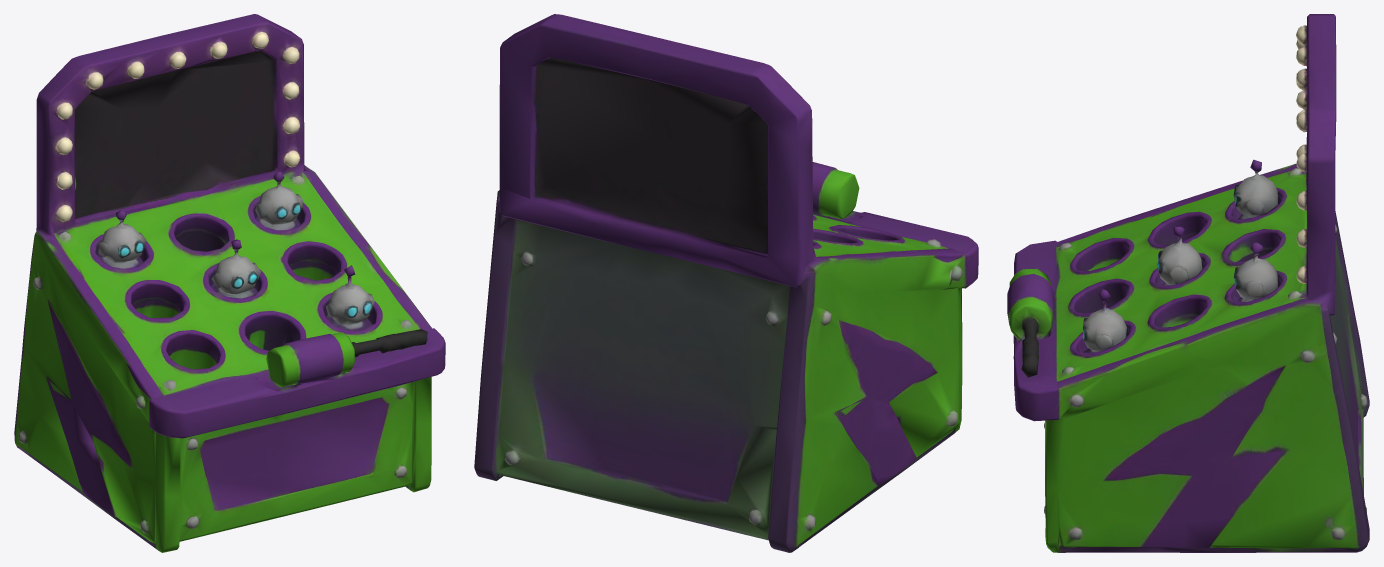
Rendered from whack.glb.
The picture shows the model from 3 angles, left to right: view 1: azimuth 30°, elevation 25°; view 2: azimuth 150°, elevation 25°; view 3: azimuth 270°, elevation 25°; orthographic projection. The views are drawn at different scales.
Parts seen in each view (by area): view 1: tripo_node_784d97e8-edef-4a11-b61a-54ac766fba69; view 2: tripo_node_784d97e8-edef-4a11-b61a-54ac766fba69; view 3: tripo_node_784d97e8-edef-4a11-b61a-54ac766fba69.
Boxes of the visible parts, x1=… form: tripo_node_784d97e8-edef-4a11-b61a-54ac766fba69: x1=14, y1=14, x2=445, y2=552; tripo_node_784d97e8-edef-4a11-b61a-54ac766fba69: x1=474, y1=14, x2=978, y2=552; tripo_node_784d97e8-edef-4a11-b61a-54ac766fba69: x1=1007, y1=14, x2=1369, y2=552.
Bounding box in the file's own units: 0.7664 × 0.9793 × 0.763.
Materials: 1 (1 with a texture image).
